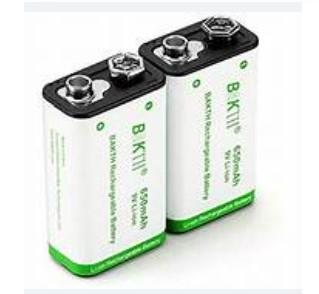9V Battery: (41, 53, 167, 279)
